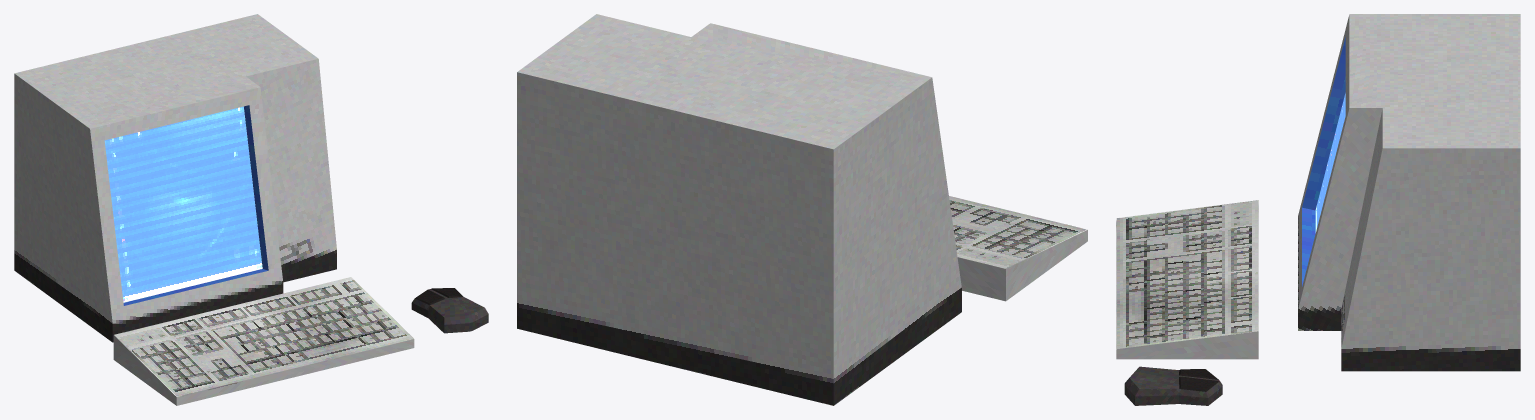
Rendered from computer.gltf.
3 views of the same model, side by side, from view 1: azimuth 30°, elevation 25°; view 2: azimuth 150°, elevation 25°; view 3: azimuth 270°, elevation 25° (orthographic). The views are drawn at different scales.
Parts seen in each view (by area): view 1: Cube.001; view 2: Cube.001; view 3: Cube.001.
Boxes of the visible parts, x1,y1,x2,y2 form: Cube.001: [14, 14, 488, 405]; Cube.001: [517, 14, 1087, 405]; Cube.001: [1116, 14, 1520, 405].
Size of the model in its own units: 3.76 by 2.22 by 3.63.
Materials: 2 (2 with a texture image).
